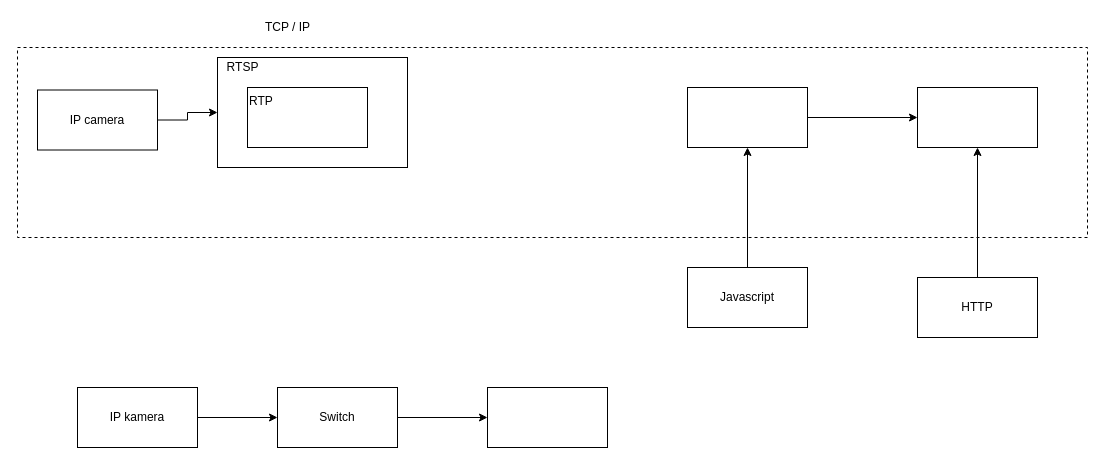
Image size: 1105x465. Some labels were removed from this diagram. Here are the shapes that lost their labels. From the top down, the box of each, then its label:
(686, 86, 808, 148): Golang server
(916, 86, 1038, 148): WebRTC
(486, 386, 608, 448): PC på land
